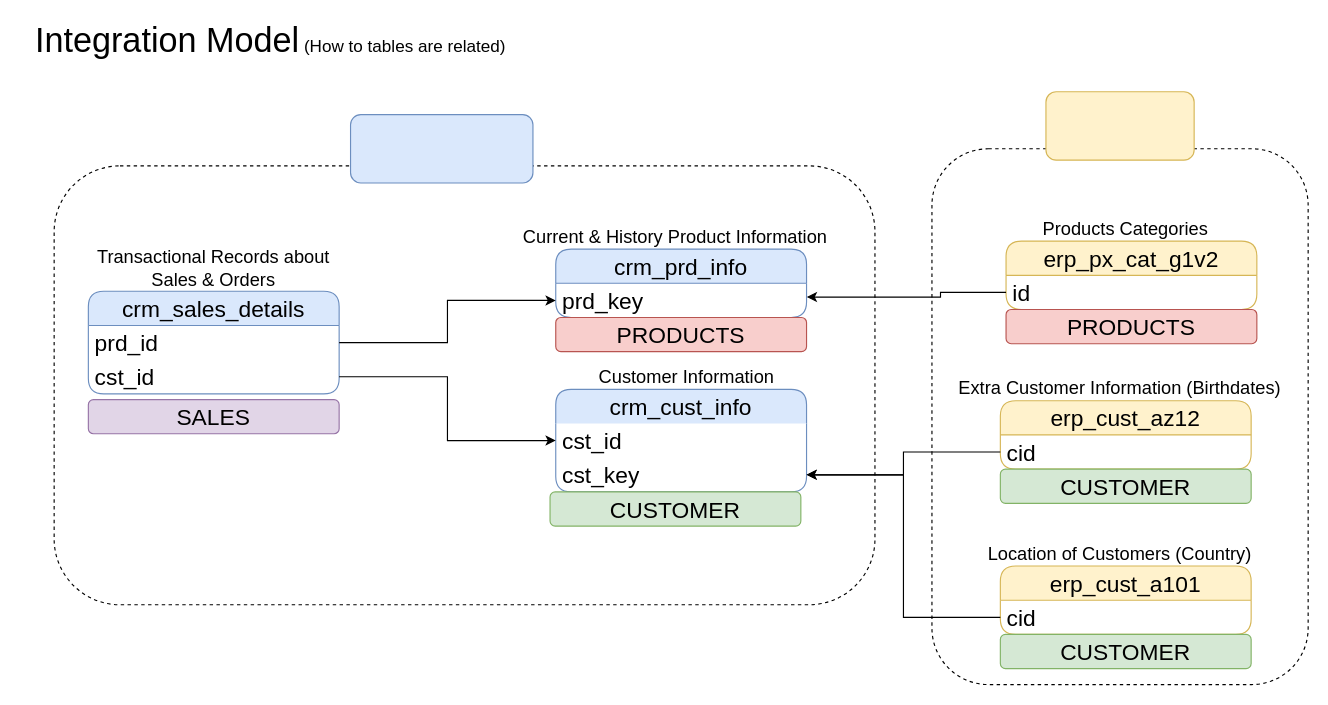
Some shapes in this 1328 by 705 pixel diagram are drawn without their labels. The centre of each missing label's shape, as x and y in pixels:
"CRM" goes at pixel 441 148.
"erp" goes at pixel 1119 125.
